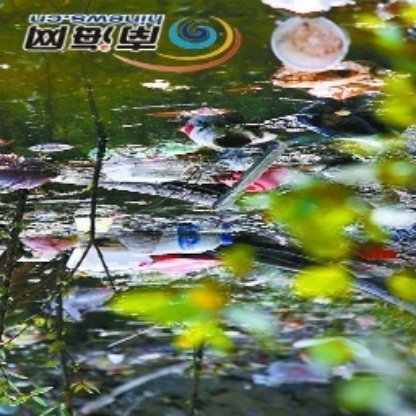bottle: (133, 222, 238, 257)
